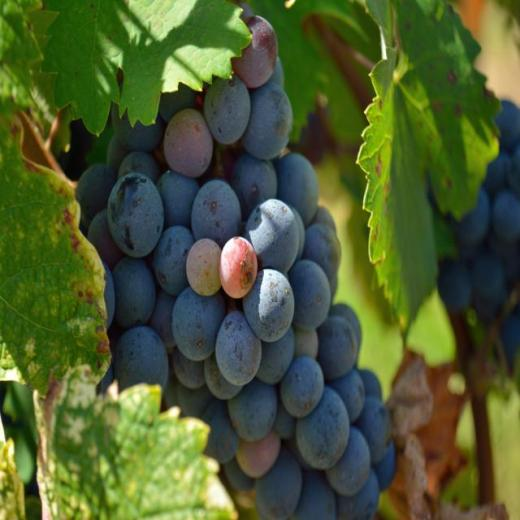Orange: (74, 11, 402, 520), (441, 99, 520, 365)
